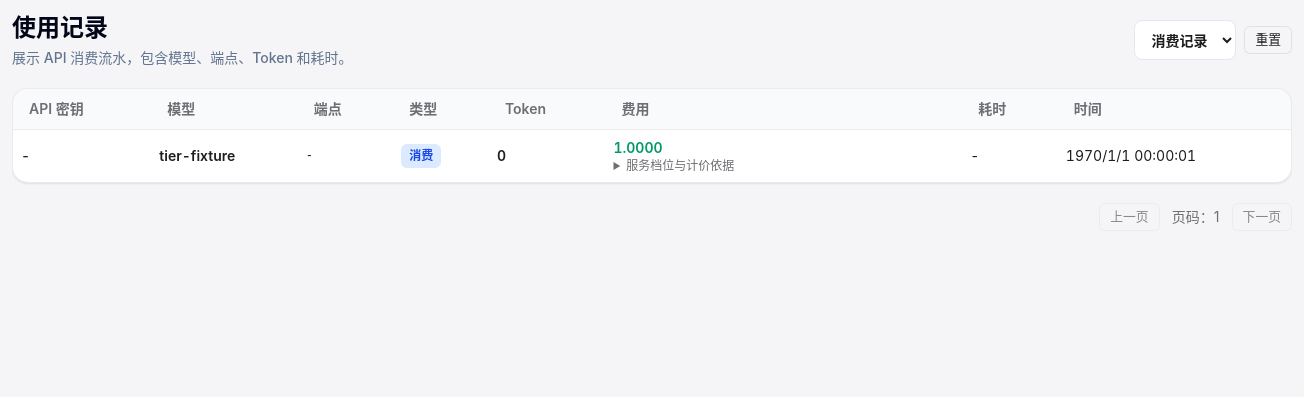
Scenario: native usage v2 display › explains an unknown actual tier from the recorded bill without substituting the request
Click the heading "服务档位与计价依据" at coordinates (680, 165), box [626,158,734,172]
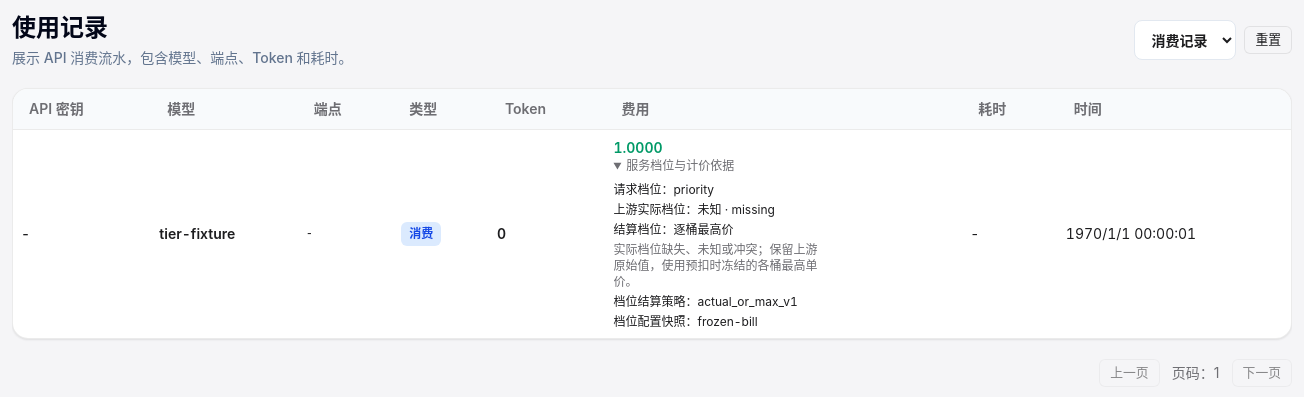
Now the text "请求档位：priority" is shown, box [614,182,714,196]
Now the text "上游实际档位：未知 · missing" is shown, box [614,202,775,216]
Now the text "结算档位：逐桶最高价" is shown, box [614,222,734,236]
